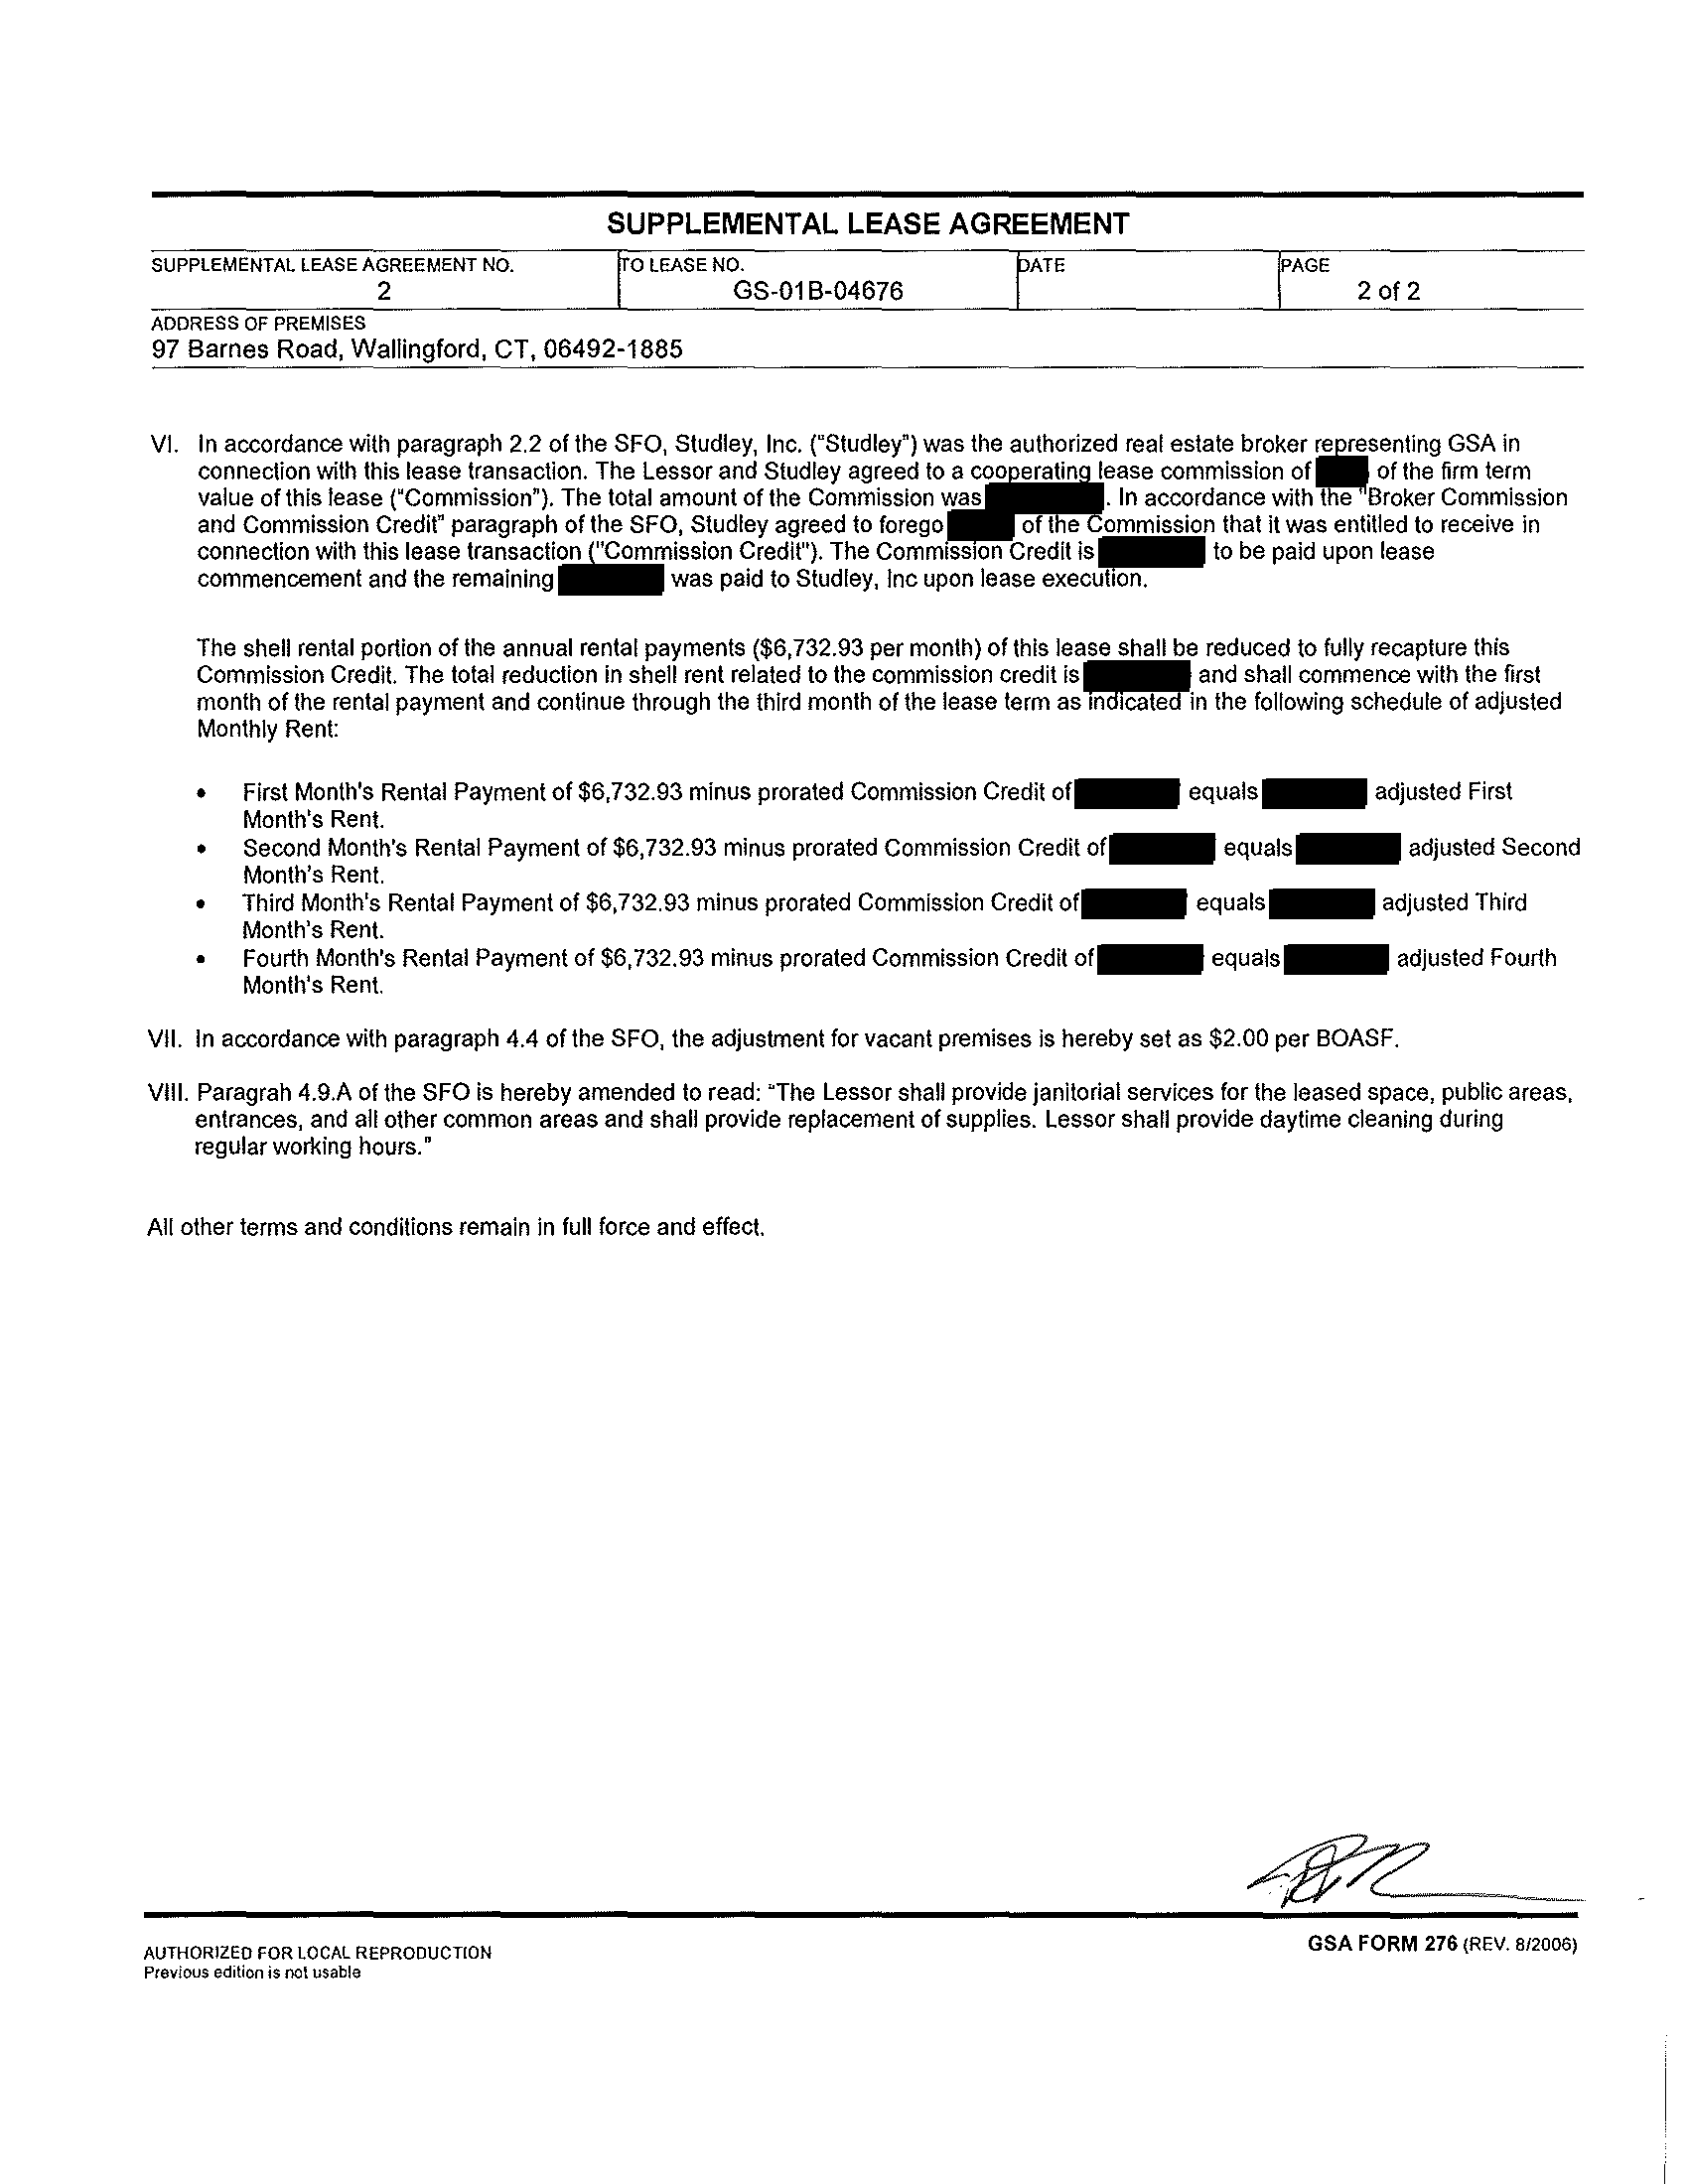handwritten: (1197, 1798, 1624, 1918)
